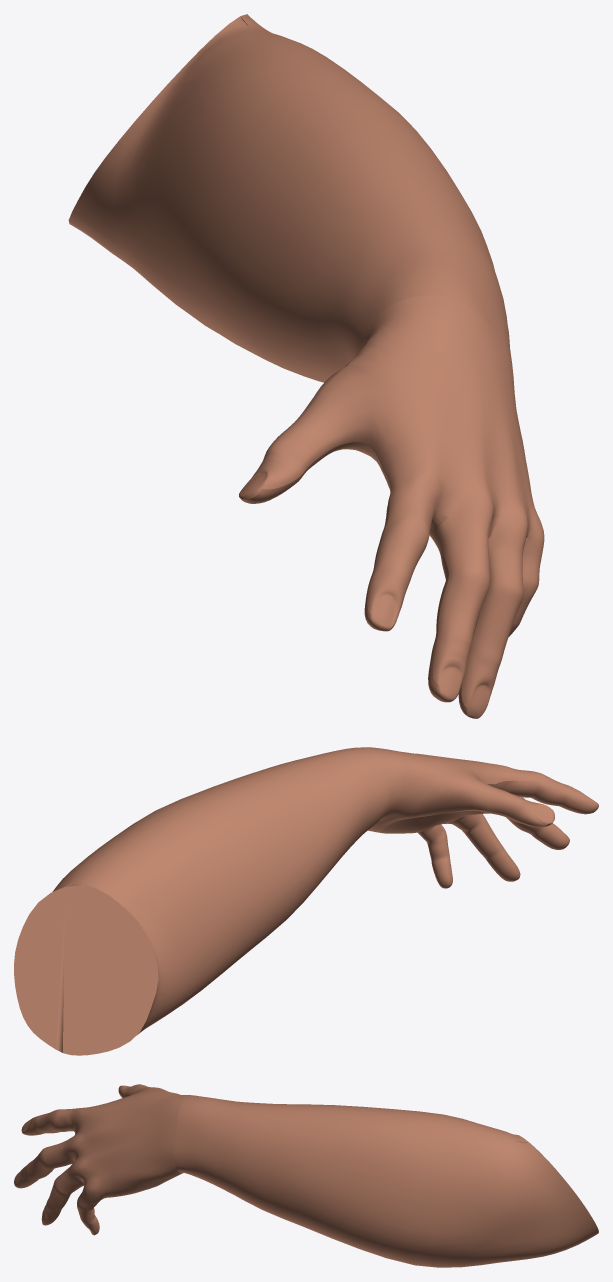
The model's file is human-hand.glb.
3 renders of one model, top to bottom at view 1: azimuth 30°, elevation 25°; view 2: azimuth 150°, elevation 25°; view 3: azimuth 270°, elevation 25°, orthographic. The views are drawn at different scales.
Parts seen in each view (by area): view 1: base.obj.sub 1; view 2: base.obj.sub 1; view 3: base.obj.sub 1.
Part boxes in pixels (x1,y1,x2,y2): base.obj.sub 1: (68, 14, 544, 718); base.obj.sub 1: (14, 747, 598, 1055); base.obj.sub 1: (14, 1084, 598, 1267).
Size of the model in its own units: 0.0223 by 0.0142 by 0.047.
